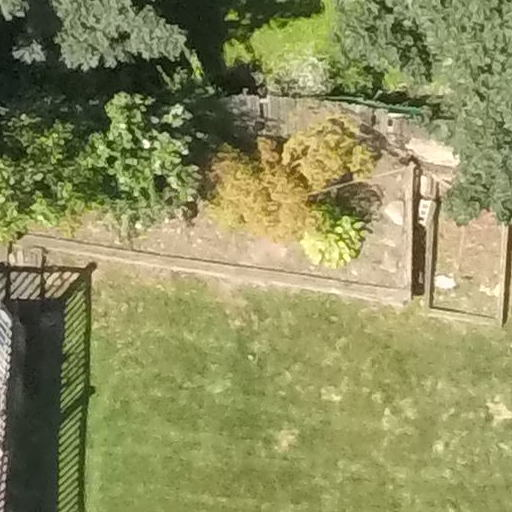flower bed: (1, 107, 424, 314), (414, 158, 512, 325)
